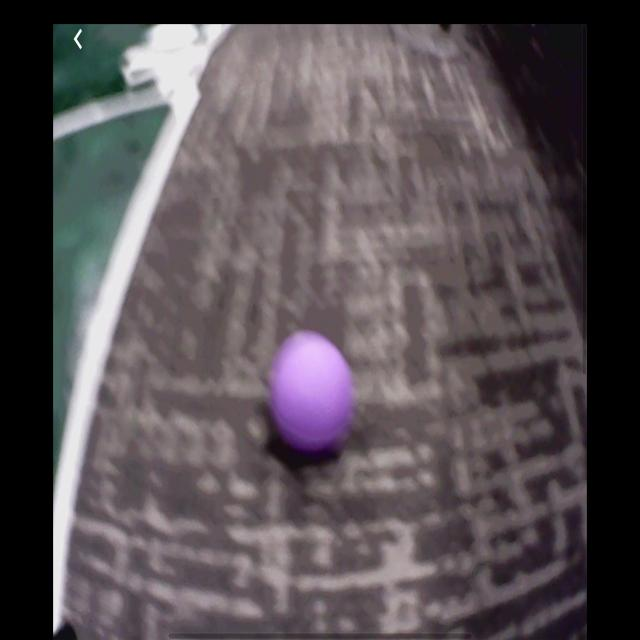ball: (271, 331, 352, 454)
